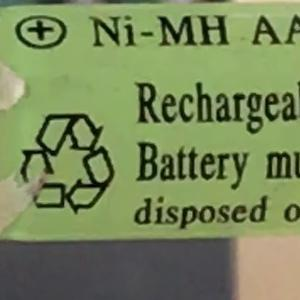NI-MH: (80, 6, 233, 56)
